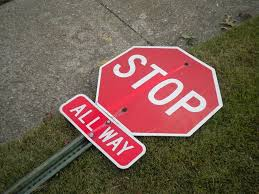stop sign: (96, 44, 225, 135)
